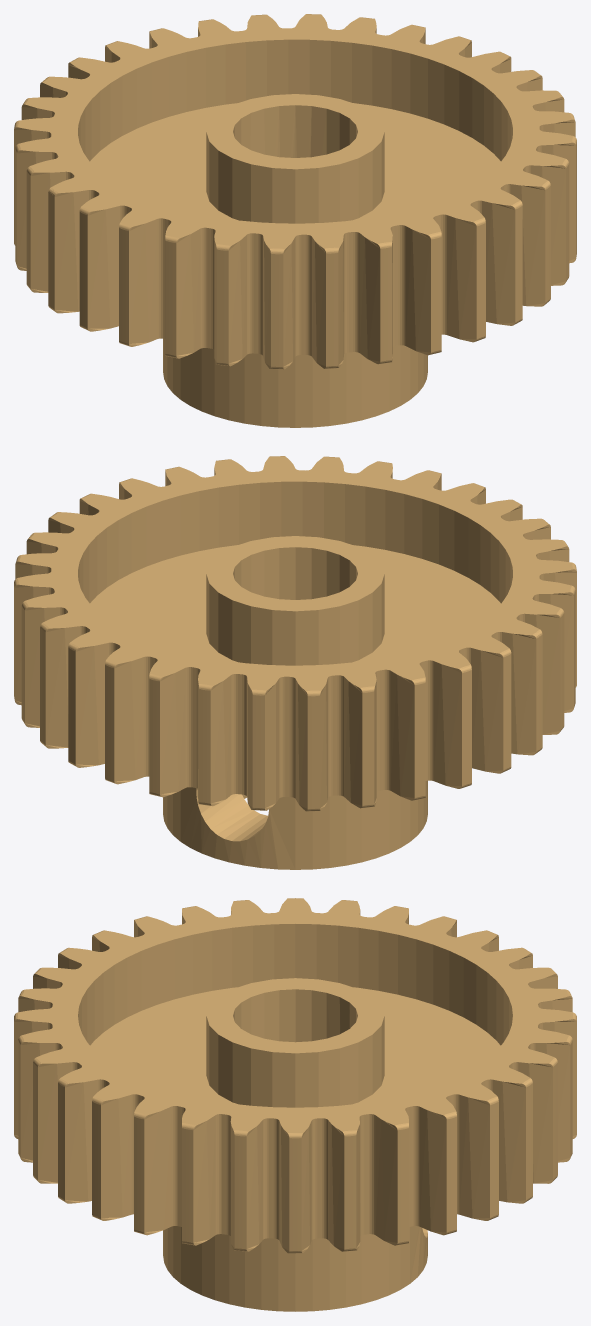
The picture shows the model from 3 angles, top to bottom: view 1: azimuth 30°, elevation 25°; view 2: azimuth 150°, elevation 25°; view 3: azimuth 270°, elevation 25°; orthographic projection.
Visible parts, largest first — view 1: Model; view 2: Model; view 3: Model.
Part boxes in pixels (x1,y1,x2,y2): Model: (14,14,576,427); Model: (14,456,576,869); Model: (14,898,576,1311).
Size of the model in its own units: 26.99 by 26.99 by 12.7.
